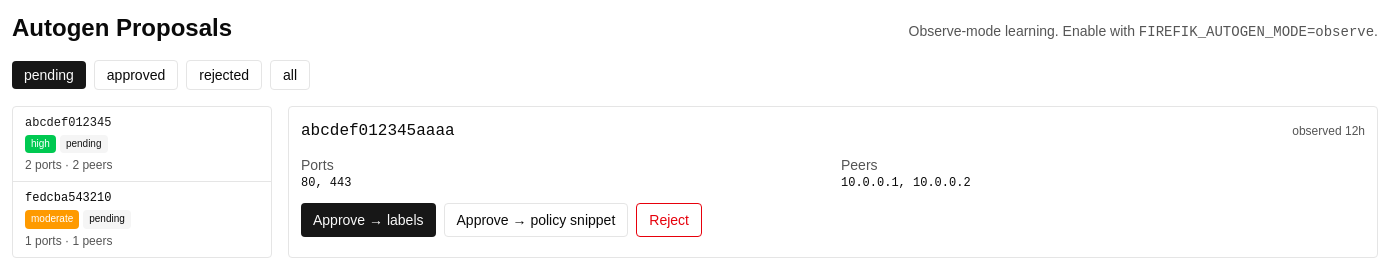
Test case: ProposalsPage › selects a different proposal when its row is clicked
This screenshot has width=1390, height=275.
Click the text "fedcba543210" at {"x": 68, "y": 198}, box [25,191,111,205]
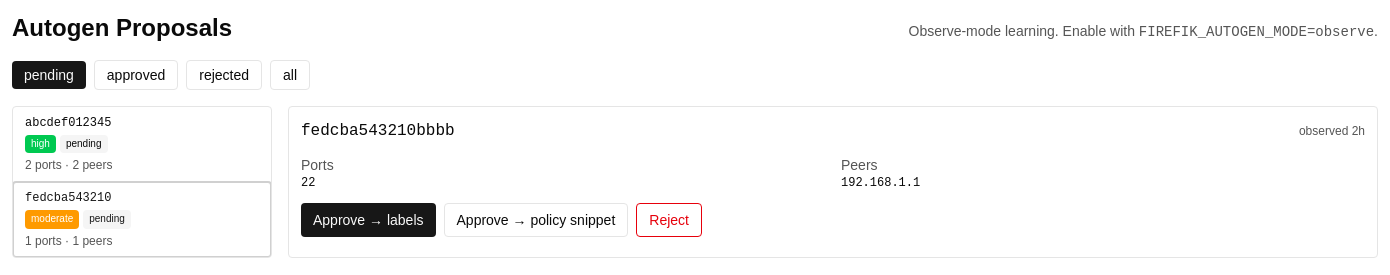
Now the heading "fedcba543210bbbb" is shown, box [301,119,455,143]
